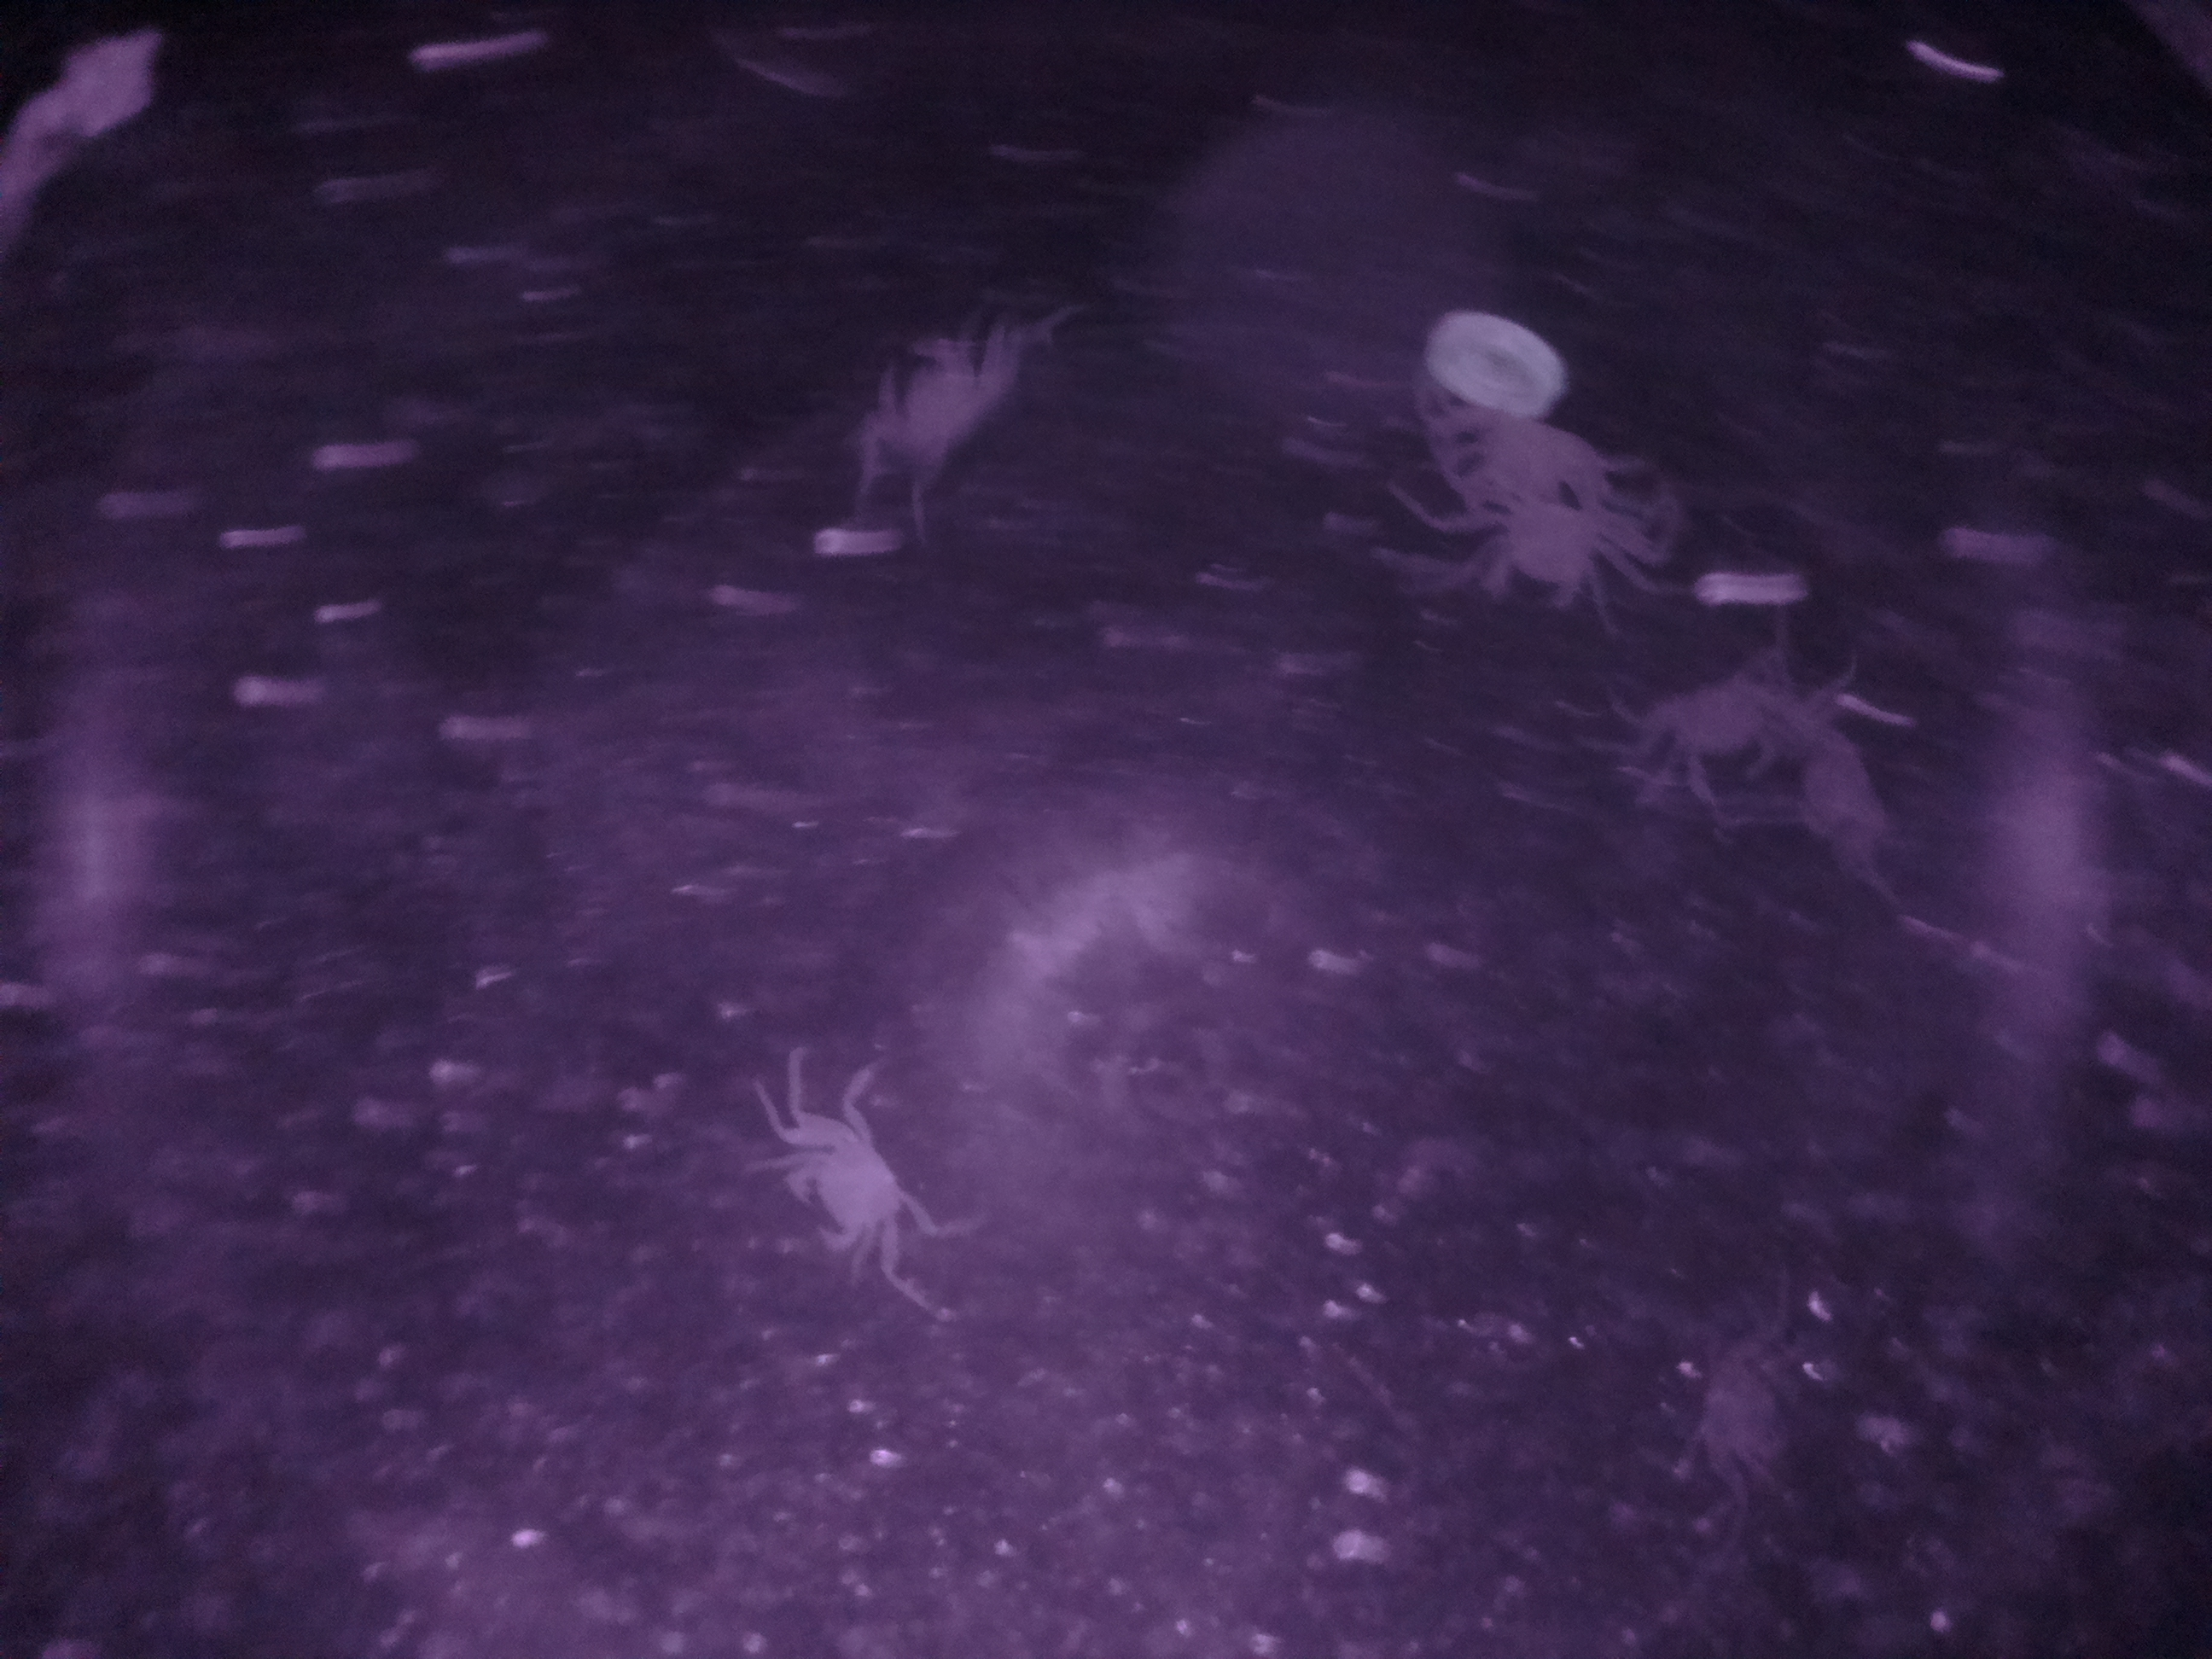Crab: (756, 1068, 951, 1303)
